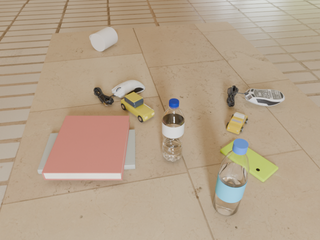book: (42, 116, 130, 180)
bottle: (213, 139, 250, 216), (162, 99, 185, 162)
cup: (89, 27, 118, 51)
mouse: (243, 89, 285, 106), (112, 80, 145, 98)
phone: (220, 141, 278, 182)
toy_car: (121, 92, 154, 122), (227, 112, 248, 134)
